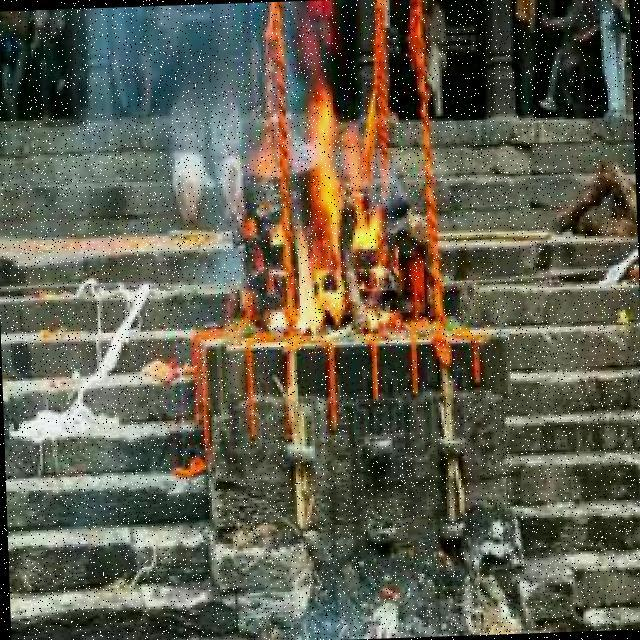Fire: (267, 90, 387, 331)
